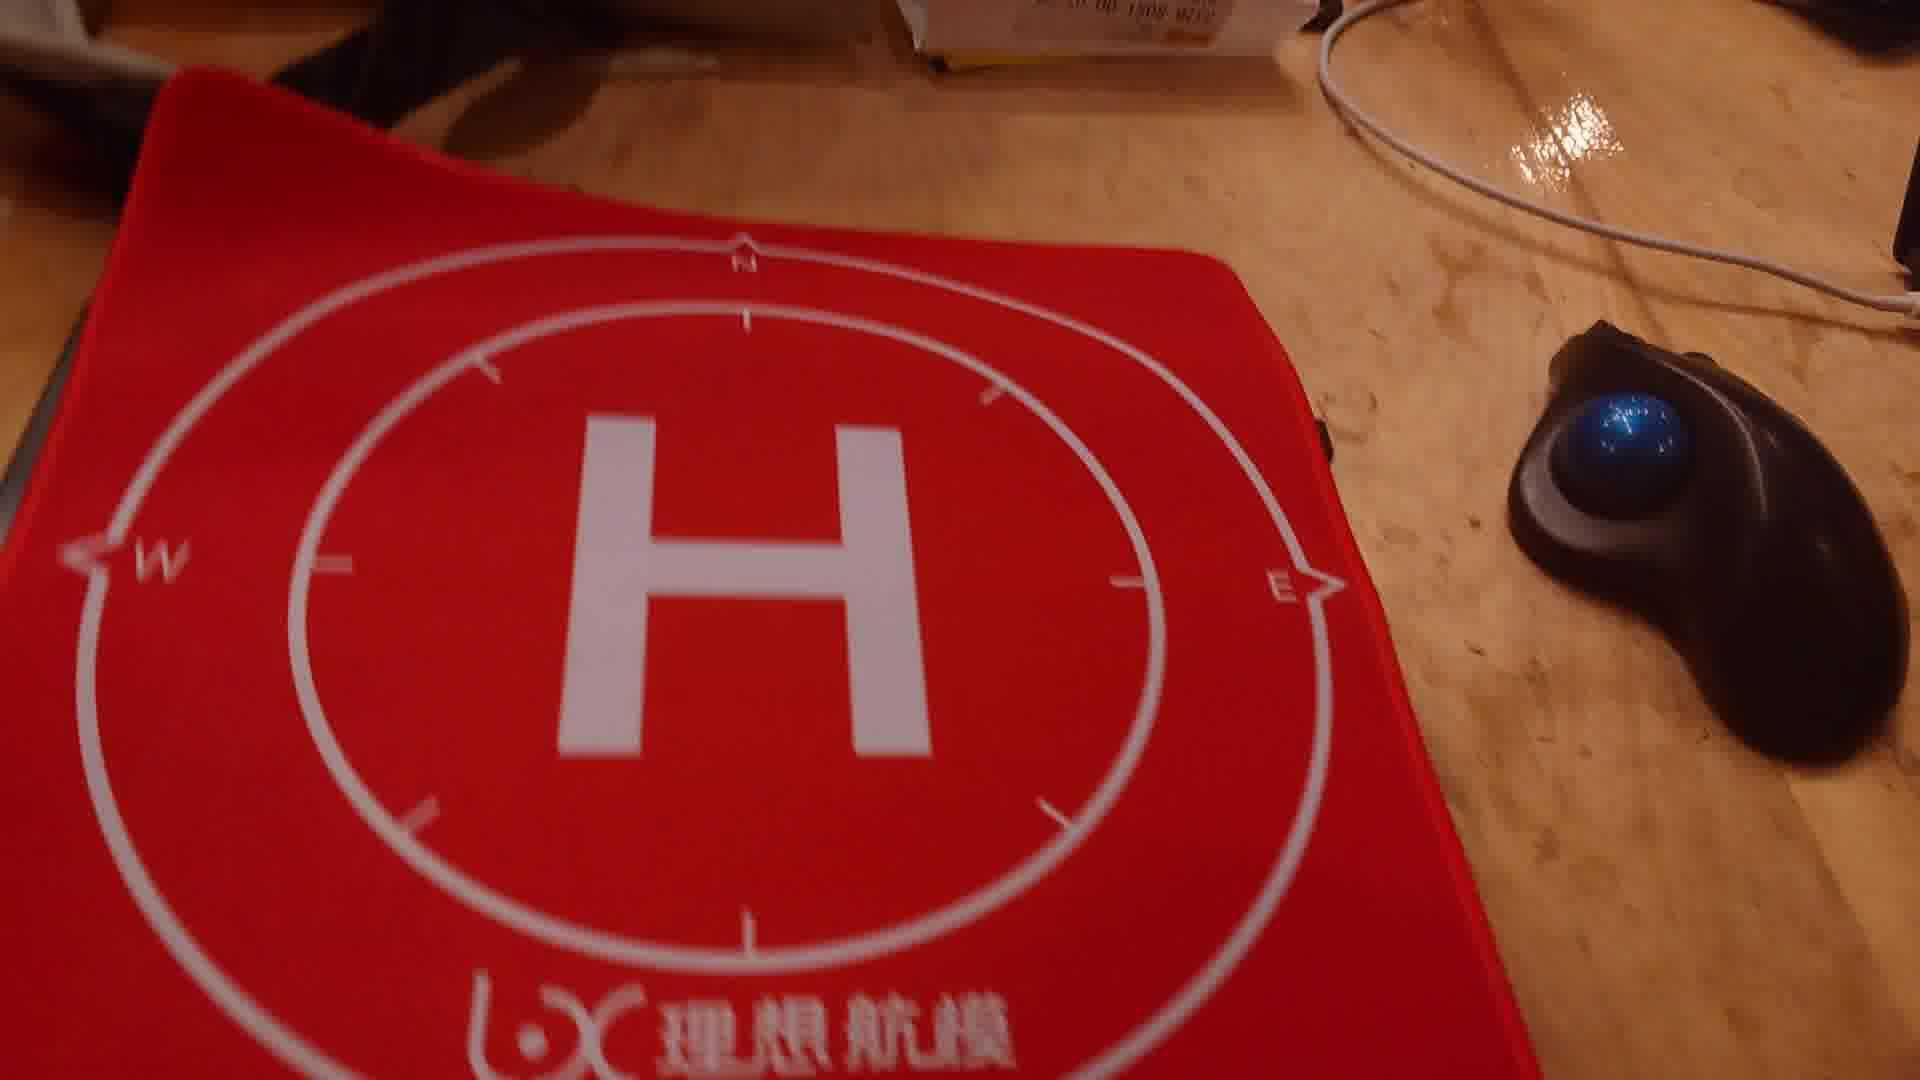H: (559, 413, 935, 770)
